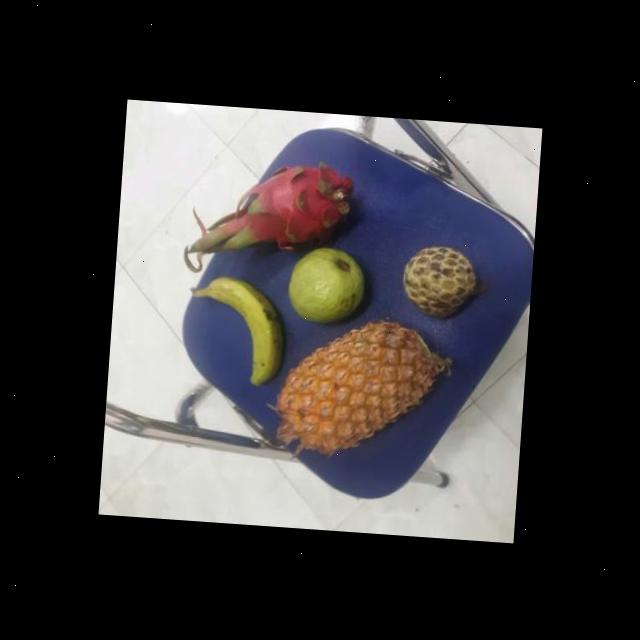Sakya fruit: (400, 244, 481, 326)
banana: (192, 277, 287, 388)
guava: (288, 243, 370, 329)
pineapple: (274, 312, 448, 464)
pitaya: (226, 160, 352, 264)
